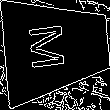M_E: (34, 23, 79, 74)
